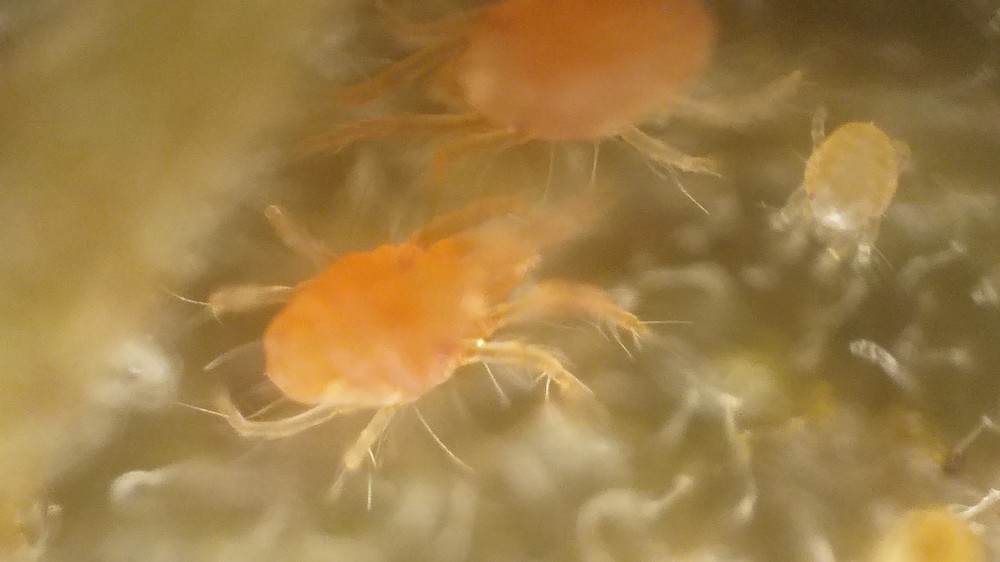Aracnido Rojo: (193, 176, 669, 483), (296, 2, 800, 196), (766, 103, 923, 266)
